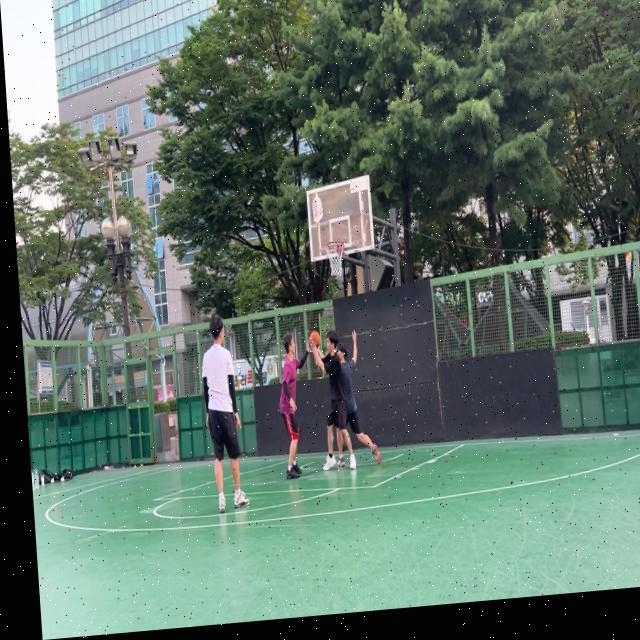basketball: (308, 330, 321, 351)
hoop: (324, 240, 346, 279)
